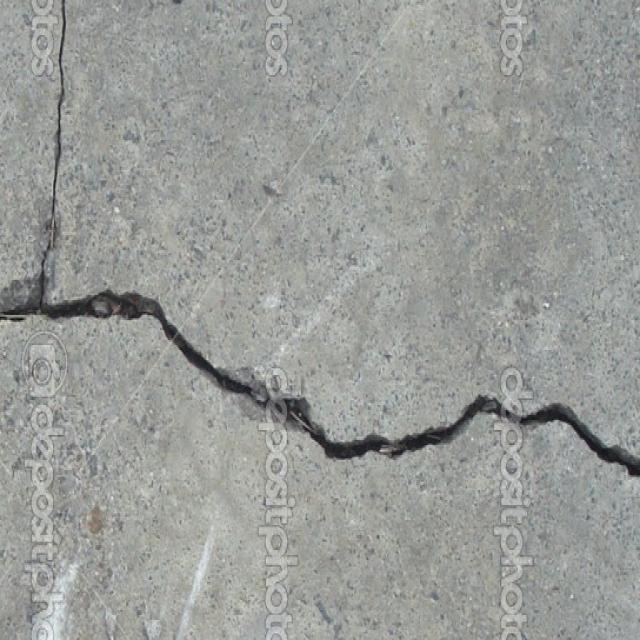crack: (2, 283, 639, 481), (36, 1, 72, 270)
